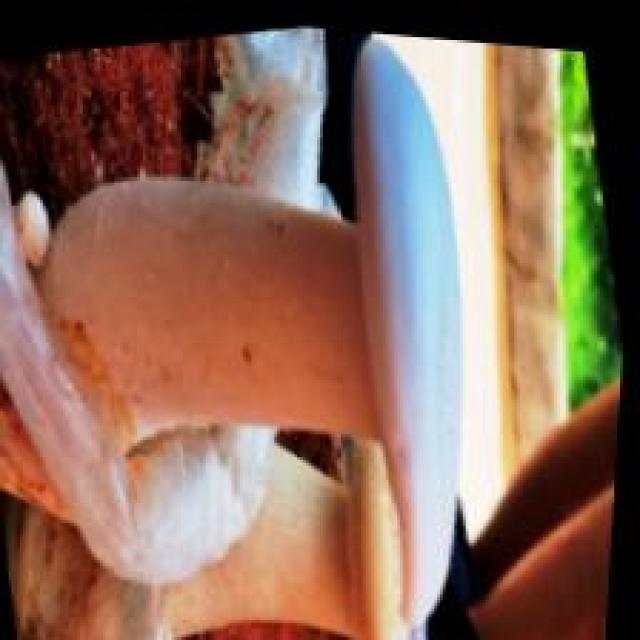death-cap: (0, 26, 466, 637)
